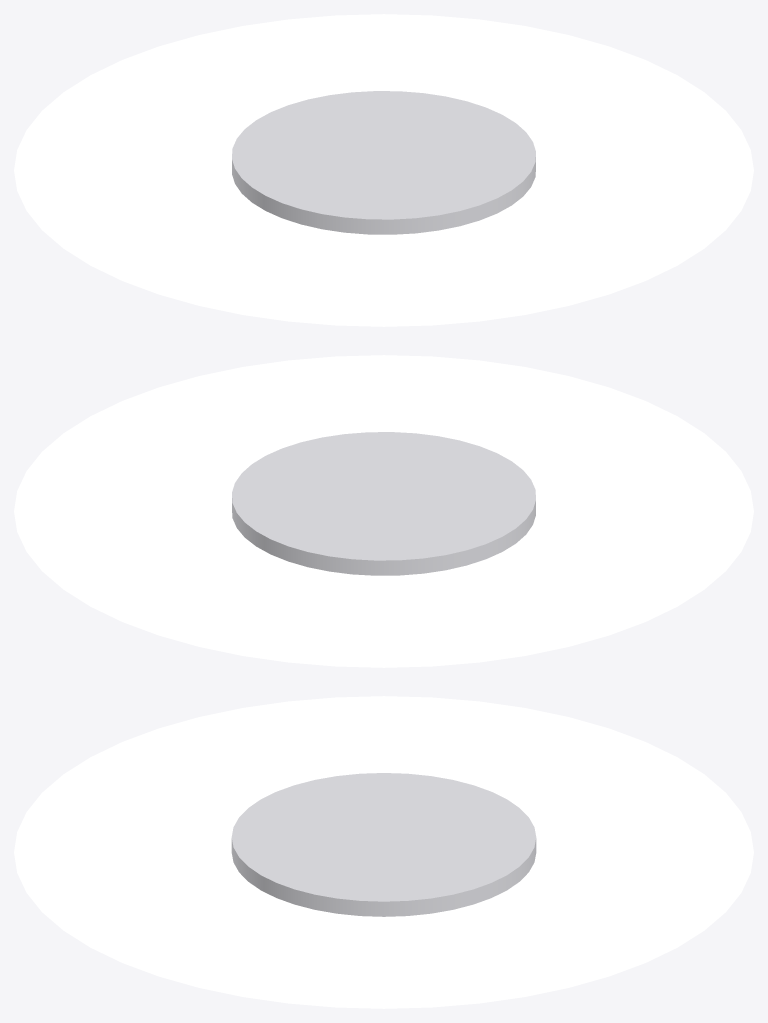
File: pad-b6b6be.glb
3 views of the same model, one above another, from view 1: azimuth 30°, elevation 25°; view 2: azimuth 150°, elevation 25°; view 3: azimuth 270°, elevation 25° (orthographic).
Parts seen in each view (by area): view 1: plat; view 2: plat; view 3: plat.
Boxes of the visible parts, x1,y1,x2,y2 form: plat: (14, 14, 753, 326); plat: (14, 355, 753, 667); plat: (14, 696, 753, 1008).
Bounding box in the file's own units: 3.4 × 0.08 × 3.4.
Materials: 2 (2 with a texture image).
